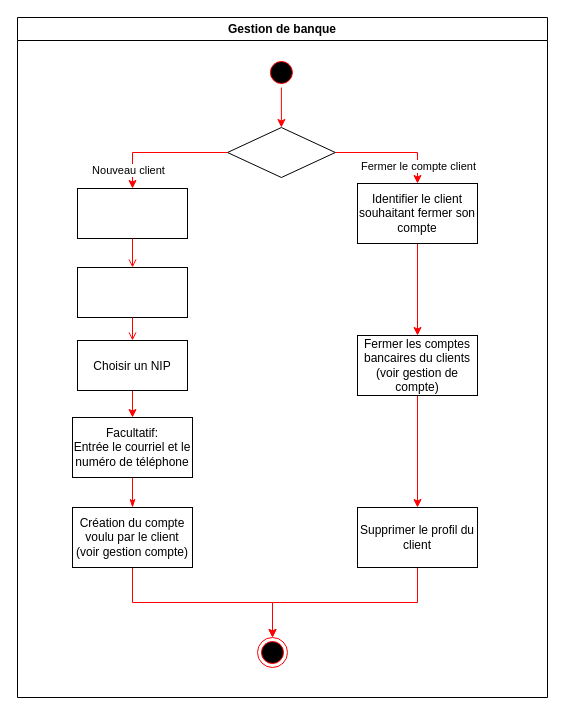
This 565x715 diagram has some shape labels left out. Here are the shapes that lost their labels. From the top down, the centre of each, then its label:
At [280,152]: "Type d'opération".
At [132,213]: "Créé un nouveau profil de client".
At [132,292]: "Entrez le nom et prénom".
